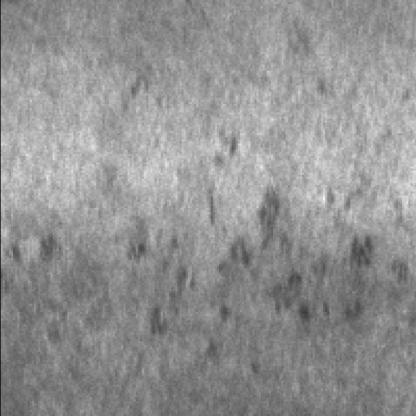rolled-in_scale: (110, 117, 308, 368), (206, 173, 414, 337)
